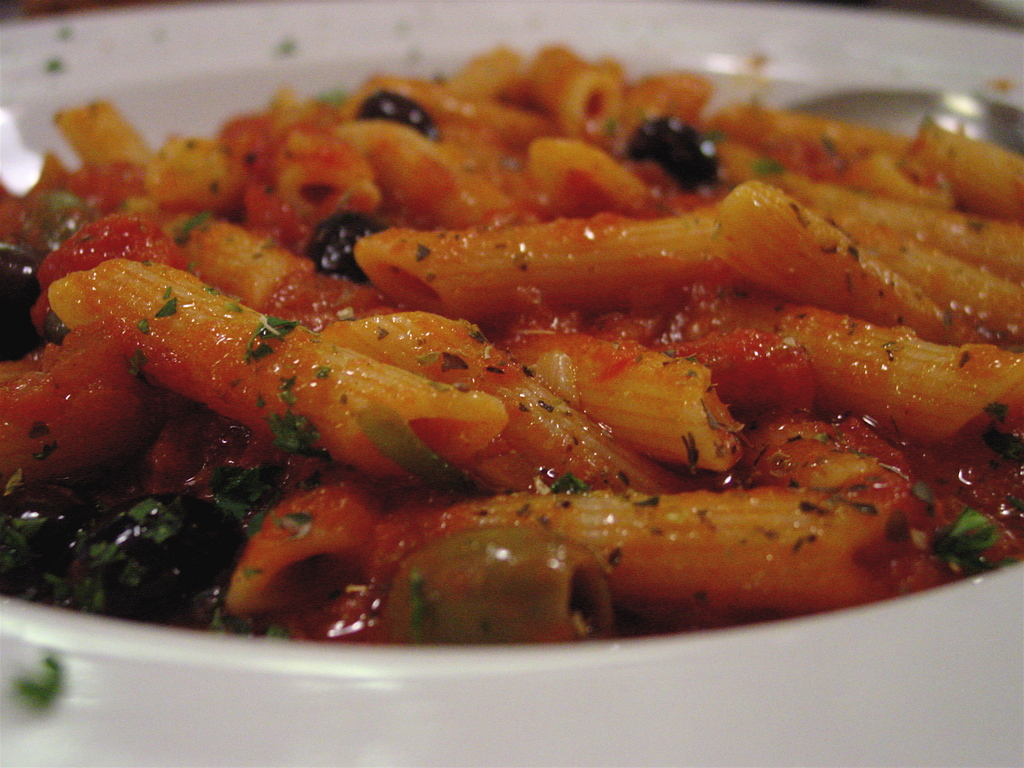pasta: (1, 35, 1023, 619)
